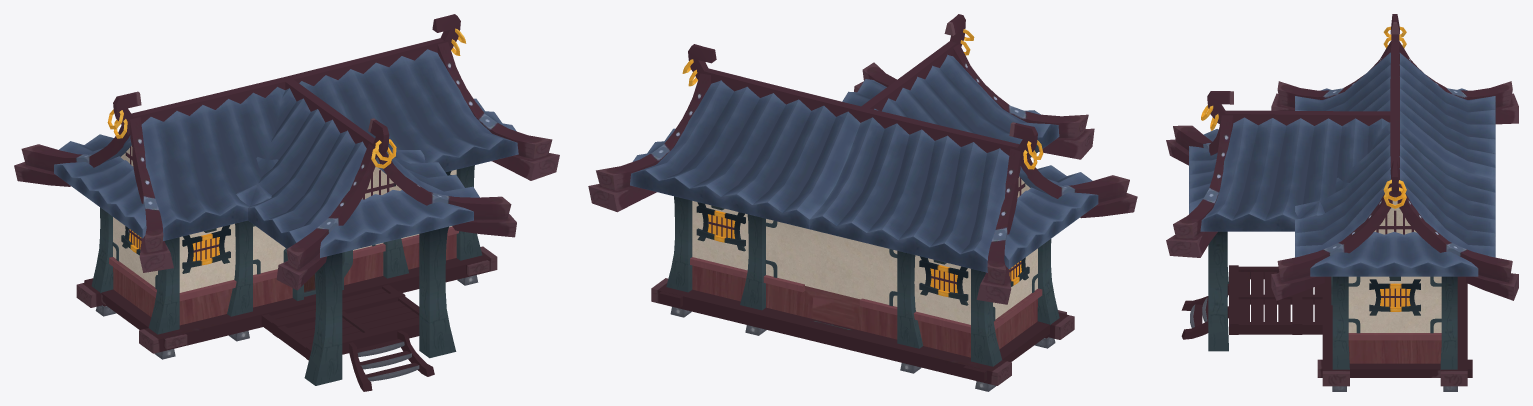
Rendered from korean_house.glb.
The picture shows the model from 3 angles, left to right: view 1: azimuth 30°, elevation 25°; view 2: azimuth 150°, elevation 25°; view 3: azimuth 270°, elevation 25°; orthographic projection. The views are drawn at different scales.
Parts seen in each view (by area): view 1: stl01_low, wdl02_low, wdf_low, stl02_low, wdl01_low, body02_low, wd01_low (×2), wdst_low, body_low, stairs_low, wd05_low, st04_low (+5 smaller); view 2: stl01_low, body_low, wdl02_low, body02_low, wd01_low (×2), wdf_low, wdl01_low, stl02_low, wd05_low, wd04_low, wd02_low, st01_low (+1 smaller); view 3: stl01_low, wdl02_low, stl02_low, wdf_low, wdst_low, body_low, wdl01_low, wd01_low (×2), body02_low, wd05_low, stairs_low, wd03_low (+4 smaller).
Boxes of the visible parts, x1,y1,x2,y2 form: stl01_low: (59,49,518,248); wdl02_low: (14,42,559,290); wdf_low: (91,165,482,385); stl02_low: (54,98,516,257); wdl01_low: (113,14,460,157); body02_low: (109,226,458,325); wd01_low (×2): (76,174,497,353); wdst_low: (261,284,419,360); body_low: (113,145,456,292); stairs_low: (349,330,434,391); wd05_low: (84,259,489,349); st04_low: (357,341,419,381); stl01_low: (630,54,1092,272); body_low: (692,176,1037,324); wdl02_low: (588,44,1137,304); body02_low: (690,257,1042,357); wd01_low (×2): (651,205,1074,385); wdf_low: (666,196,1059,366); wdl01_low: (688,14,1037,160); stl02_low: (632,110,1098,268); wd05_low: (659,291,1066,381); wd04_low: (707,214,1021,292); wd02_low: (697,202,1028,305); st01_low: (670,307,1055,391); stl01_low: (1200,52,1495,257); wdl02_low: (1166,41,1518,300); stl02_low: (1189,88,1478,276); wdf_low: (1208,231,1457,369); wdst_low: (1229,265,1322,334); body_low: (1348,197,1441,332); wdl01_low: (1207,14,1399,197); wd01_low (×2): (1322,276,1467,386); body02_low: (1348,333,1441,363); wd05_low: (1317,359,1472,377); stairs_low: (1181,284,1228,339); wd03_low: (1376,210,1413,306).
Size of the model in its own units: 7.48 by 4.17 by 5.76.
Materials: 1 (1 with a texture image).
